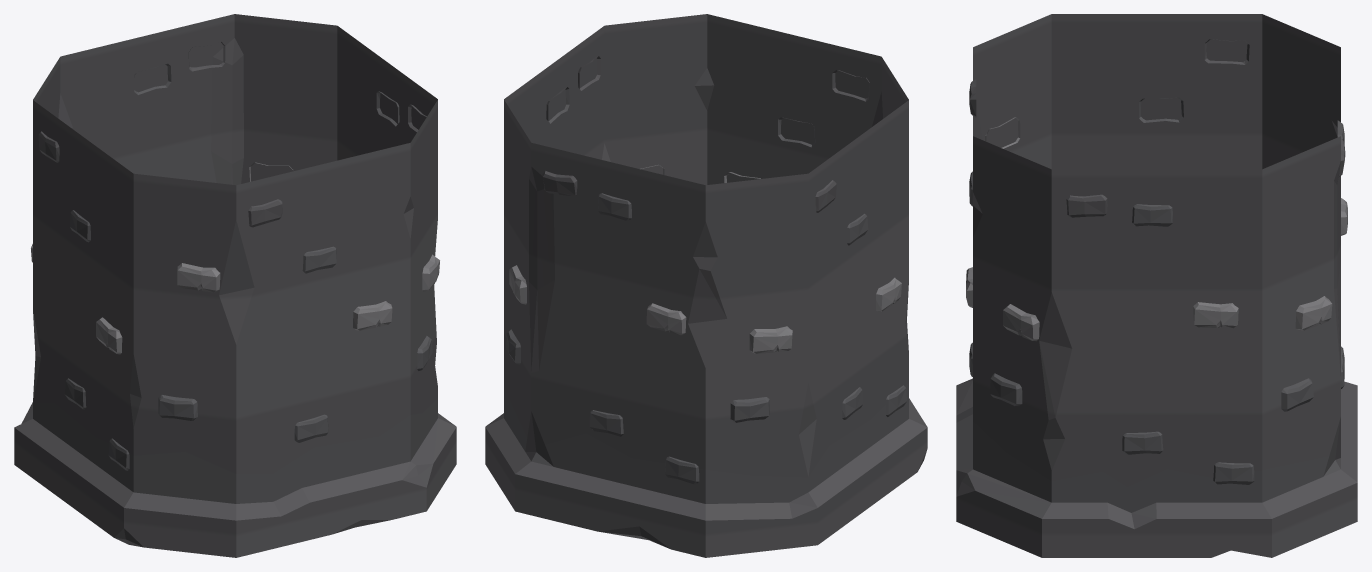
File: SM_Bld_Castle_Tower_02.gltf
3 views of the same model, side by side, from view 1: azimuth 30°, elevation 25°; view 2: azimuth 150°, elevation 25°; view 3: azimuth 270°, elevation 25° (orthographic). The views are drawn at different scales.
Parts seen in each view (by area): view 1: SM_Bld_Castle_Tower_02; view 2: SM_Bld_Castle_Tower_02; view 3: SM_Bld_Castle_Tower_02.
Boxes of the visible parts, x1=… form: SM_Bld_Castle_Tower_02: x1=14, y1=14, x2=456, y2=557; SM_Bld_Castle_Tower_02: x1=485, y1=14, x2=927, y2=557; SM_Bld_Castle_Tower_02: x1=956, y1=14, x2=1357, y2=557.
Bounding box in the file's own units: 2.84 × 3.02 × 2.84.
1 material, 1 textured.
